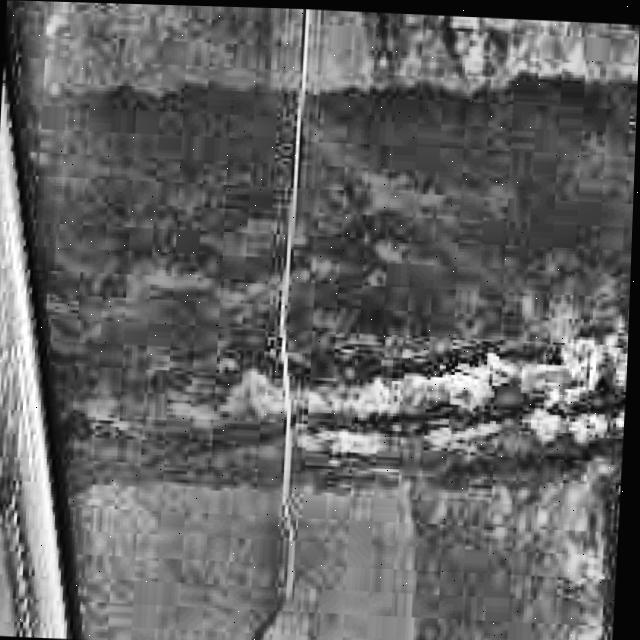bumper_scratch: (240, 8, 331, 640)
